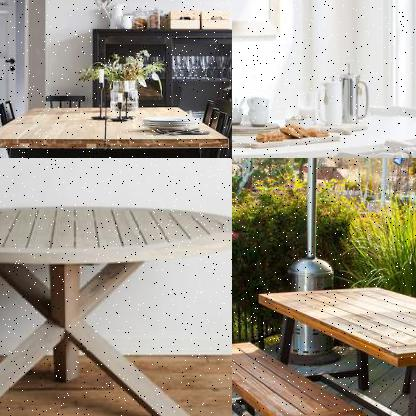table: (0, 199, 231, 415), (255, 278, 415, 415), (0, 102, 231, 157), (232, 105, 415, 157)
